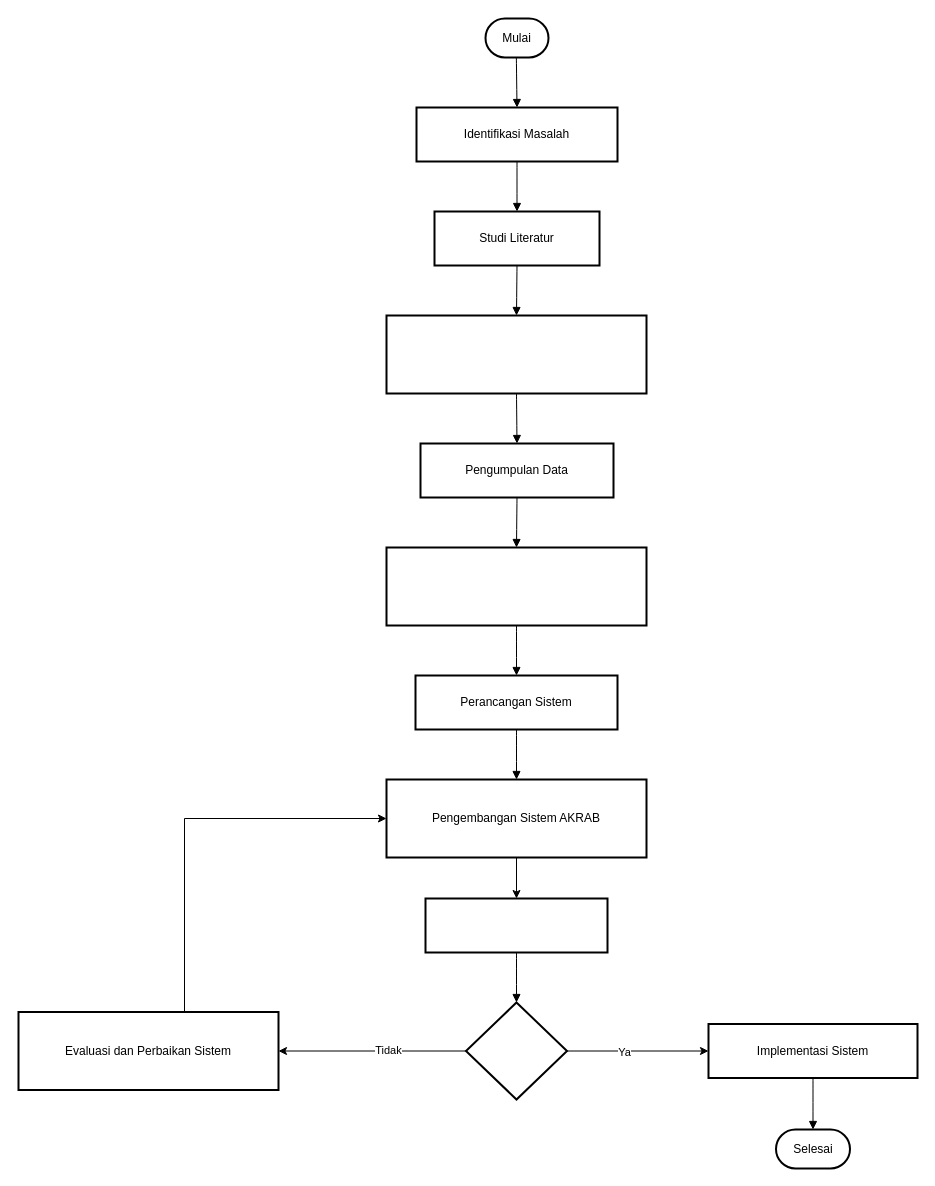
This 935x1186 diagram has some shape labels left out. The centre of each missing label's shape, as x and y in pixels:
"Apakah sistem sudah sesuai?" belongs at point (516, 1050).
"Penentuan Populasi dan Sampel" belongs at point (516, 354).
"Pengolahan dan Analisis Data" belongs at point (516, 586).
"Pengujian Sistem" belongs at point (516, 925).
